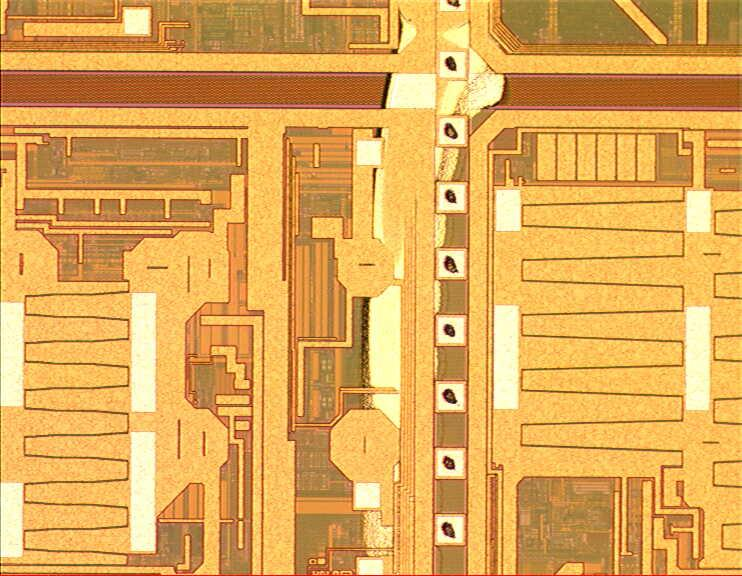BLOCK ETCH: (363, 1, 507, 576)
